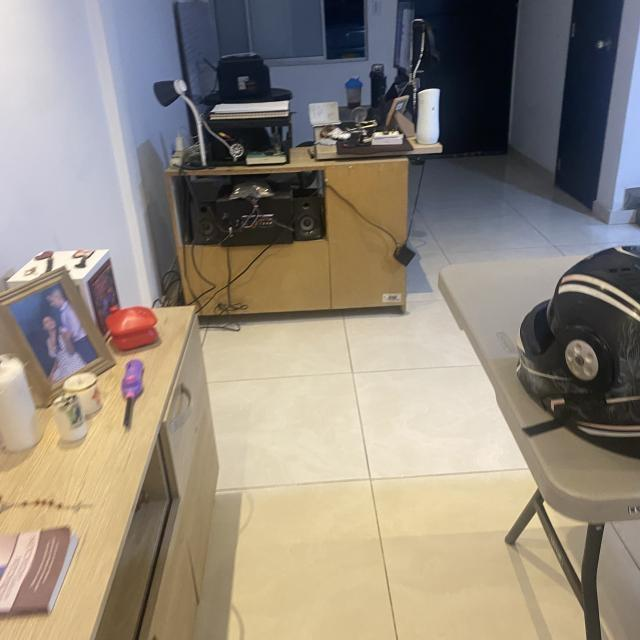obstacle: (4, 241, 245, 640), (159, 42, 470, 340), (424, 220, 640, 613)
